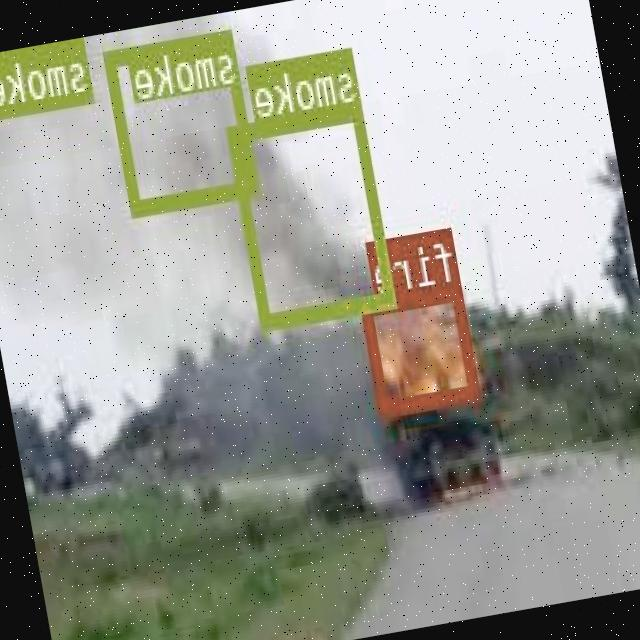fire: (363, 281, 482, 412)
smoke: (229, 101, 398, 325), (104, 26, 260, 214), (0, 36, 95, 118)
